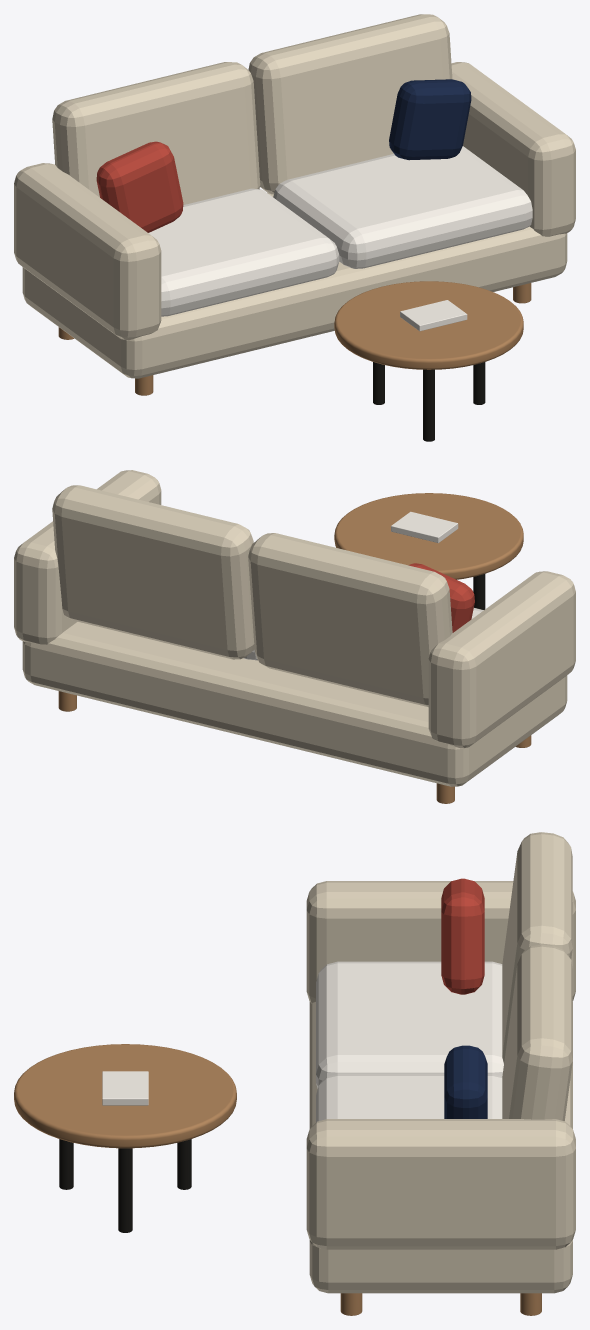
Rendered from 05_lounge.glb.
3 views of the same model, one above another, from view 1: azimuth 30°, elevation 25°; view 2: azimuth 150°, elevation 25°; view 3: azimuth 270°, elevation 25° (orthographic). The views are drawn at different scales.
Parts seen in each view (by area): view 1: Sofa_Base, Sofa_Back_Cushion.001, Sofa_Seat_Cushion.001, Sofa_Back_Cushion, Sofa_Arm, Sofa_Seat_Cushion, Coffee_Table_Top, Sofa_Arm.001, Accent_Cushion.001, Accent_Cushion, Coffee_Table_Book, Coffee_Table_Leg.002; view 2: Sofa_Base, Sofa_Back_Cushion.001, Sofa_Back_Cushion, Sofa_Arm, Coffee_Table_Top, Sofa_Arm.001, Coffee_Table_Book, Accent_Cushion; view 3: Sofa_Arm.001, Sofa_Seat_Cushion, Coffee_Table_Top, Sofa_Arm, Sofa_Base, Sofa_Back_Cushion.001, Sofa_Back_Cushion, Sofa_Seat_Cushion.001, Accent_Cushion, Accent_Cushion.001, Coffee_Table_Book, Coffee_Table_Leg (+2 smaller).
Boxes of the visible parts, <box> form: Sofa_Base: <box>22,192,567,378</box>; Sofa_Back_Cushion.001: <box>248,14,452,194</box>; Sofa_Seat_Cushion.001: <box>273,146,532,268</box>; Sofa_Back_Cushion: <box>52,62,260,204</box>; Sofa_Arm: <box>14,163,161,340</box>; Sofa_Seat_Cushion: <box>148,188,339,316</box>; Coffee_Table_Top: <box>334,281,523,369</box>; Sofa_Arm.001: <box>451,62,575,236</box>; Accent_Cushion.001: <box>389,79,471,160</box>; Accent_Cushion: <box>96,141,183,232</box>; Coffee_Table_Book: <box>400,300,467,331</box>; Coffee_Table_Leg.002: <box>423,369,434,441</box>; Sofa_Base: <box>22,622,567,786</box>; Sofa_Back_Cushion.001: <box>52,485,254,659</box>; Sofa_Back_Cushion: <box>248,533,452,707</box>; Sofa_Arm: <box>428,571,575,748</box>; Coffee_Table_Top: <box>334,493,523,579</box>; Sofa_Arm.001: <box>14,470,161,644</box>; Coffee_Table_Book: <box>391,511,458,543</box>; Accent_Cushion: <box>408,563,474,632</box>; Sofa_Arm.001: <box>306,1119,575,1249</box>; Sofa_Seat_Cushion: <box>316,961,503,1088</box>; Coffee_Table_Top: <box>14,1044,236,1148</box>; Sofa_Arm: <box>306,881,575,1003</box>; Sofa_Base: <box>309,1001,572,1293</box>; Sofa_Back_Cushion.001: <box>502,944,572,1121</box>; Sofa_Back_Cushion: <box>502,832,572,1062</box>; Sofa_Seat_Cushion.001: <box>316,1074,502,1122</box>; Accent_Cushion: <box>441,878,484,994</box>; Accent_Cushion.001: <box>444,1045,487,1118</box>; Coffee_Table_Book: <box>102,1071,148,1105</box>; Coffee_Table_Leg: <box>118,1148,132,1232</box>.
Size of the model in its own units: 2.02 by 0.9504 by 1.81.
